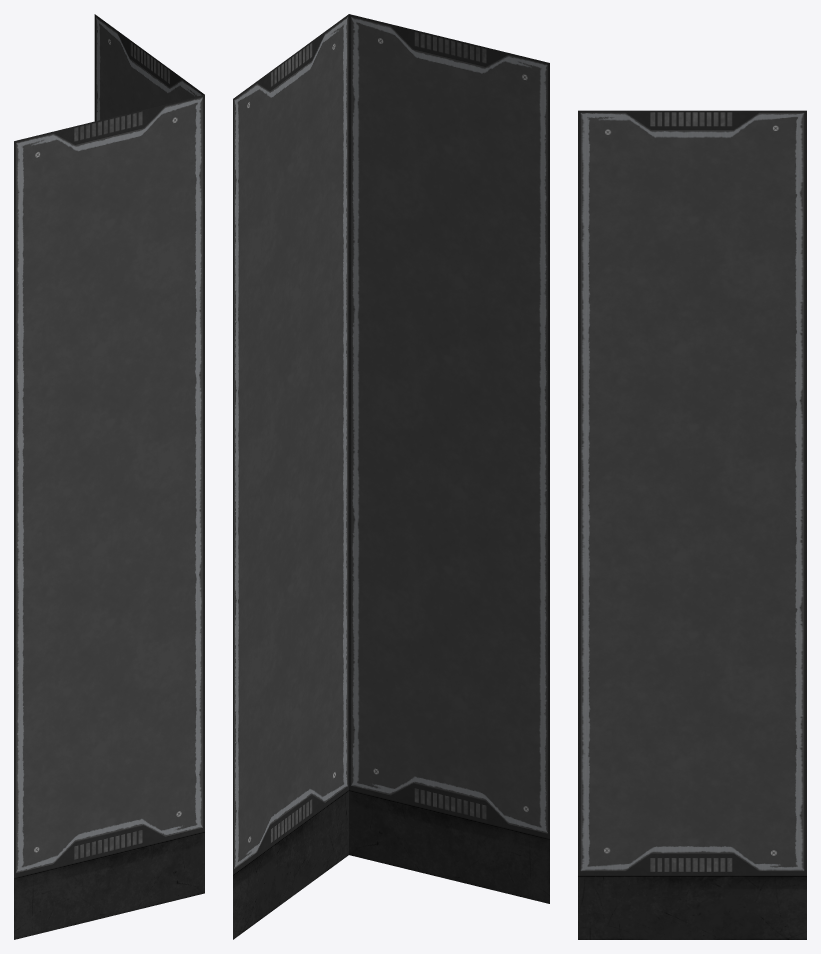
File: Wall_Outercorner_Flat.fbx
3 renders of one model, left to right at view 1: azimuth 30°, elevation 25°; view 2: azimuth 150°, elevation 25°; view 3: azimuth 270°, elevation 25°, orthographic. The views are drawn at different scales.
Visible parts, largest first — view 1: Wall_Outercorner_Flat; view 2: Wall_Outercorner_Flat; view 3: Wall_Outercorner_Flat.
Part boxes in pixels (x1,y1,x2,y2): Wall_Outercorner_Flat: [14, 14, 204, 939]; Wall_Outercorner_Flat: [233, 14, 549, 939]; Wall_Outercorner_Flat: [578, 110, 806, 939].
Bounding box in the file's own units: 100 × 400 × 100.
1 material, 1 textured.
